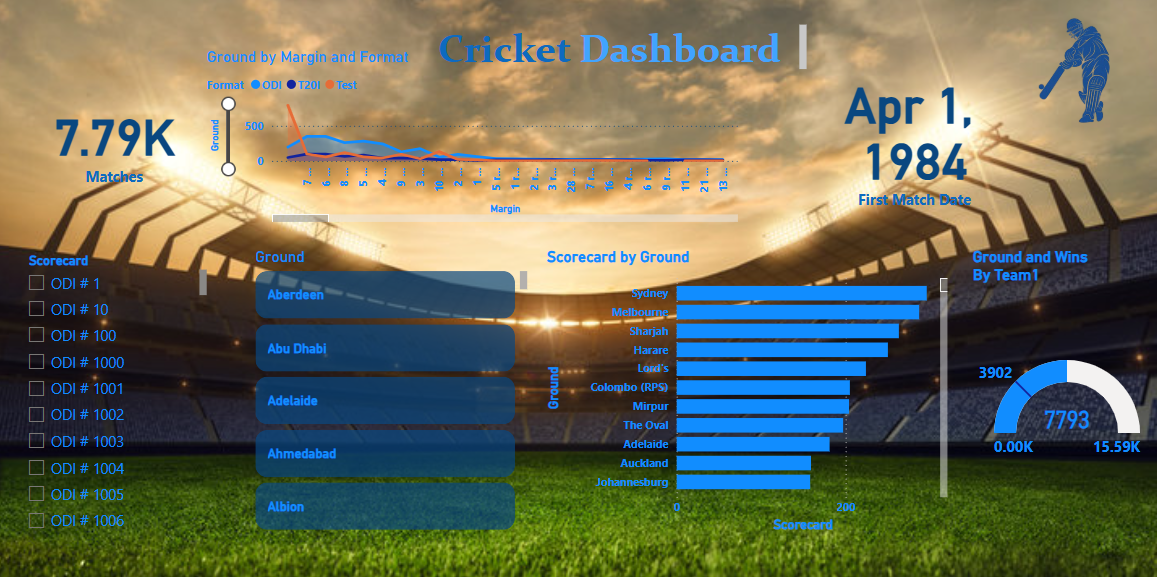

The dashboard page shown, as its layout file describes it:
{"tool":"powerbi","page":{"name":"Page 1","canvas":[1280,720],"ordinal":0},"visuals":[{"type":"textbox","box":[480.3,61.7,414.4,60.4],"z":0},{"type":"image","box":[1086.8,13.7,193.5,205.8],"z":1000},{"type":"card","fields":{"Values":["CountNonNull(Cricket-all-teams-all-matches Dataset.Scorecard)"]},"box":[23.3,101.5,212.7,186.6],"z":2000},{"type":"slicer","fields":{"Values":["Cricket-all-teams-all-matches Dataset.Scorecard"]},"box":[23.3,311.5,212.7,317],"z":3000},{"type":"advancedSlicerVisual","fields":{"Values":["Cricket-all-teams-all-matches Dataset.Ground"]},"box":[279.9,311.5,308.7,317],"z":4000},{"type":"barChart","fields":{"Category":["Cricket-all-teams-all-matches Dataset.Ground"],"Y":["CountNonNull(Cricket-all-teams-all-matches Dataset.Scorecard)"]},"box":[599.7,311.5,450.1,317],"z":5000},{"type":"gauge","fields":{"Y":["CountNonNull(Cricket-all-teams-all-matches Dataset.Ground)"],"TargetValue":["Cricket-all-teams-all-matches Dataset.WinsByTeam1"]},"box":[1067.6,311.5,193.5,317],"z":6000},{"type":"areaChart","fields":{"Series":["Cricket-all-teams-all-matches Dataset.Format"],"Category":["Cricket-all-teams-all-matches Dataset.Margin"],"Y":["CountNonNull(Cricket-all-teams-all-matches Dataset.Ground)"]},"box":[226.4,91.9,592.8,196.2],"z":7000},{"type":"card","fields":{"Values":["Min(Cricket-all-teams-all-matches Dataset.Match Date)"]},"box":[894.7,91.9,227.8,196.2],"z":8000}]}

Visuals, with their boxes on the page's 1280x720 design canvas (x1, y1, x2, y2). These are canvas units, not pixel positions in the 1157x577 screenshot, which may show the page scaled, cropped or inside an application window:
textbox: <region>480, 62, 895, 122</region>
image: <region>1087, 14, 1280, 220</region>
card - CountNonNull(Cricket-all-teams-all-matches Dataset.Scorecard): <region>23, 102, 236, 288</region>
slicer - Cricket-all-teams-all-matches Dataset.Scorecard: <region>23, 312, 236, 628</region>
advancedSlicerVisual - Cricket-all-teams-all-matches Dataset.Ground: <region>280, 312, 589, 628</region>
barChart - Cricket-all-teams-all-matches Dataset.Ground x CountNonNull(Cricket-all-teams-all-matches Dataset.Scorecard): <region>600, 312, 1050, 628</region>
gauge - CountNonNull(Cricket-all-teams-all-matches Dataset.Ground) x Cricket-all-teams-all-matches Dataset.WinsByTeam1: <region>1068, 312, 1261, 628</region>
areaChart - Cricket-all-teams-all-matches Dataset.Format x Cricket-all-teams-all-matches Dataset.Margin: <region>226, 92, 819, 288</region>
card - Min(Cricket-all-teams-all-matches Dataset.Match Date): <region>895, 92, 1122, 288</region>
